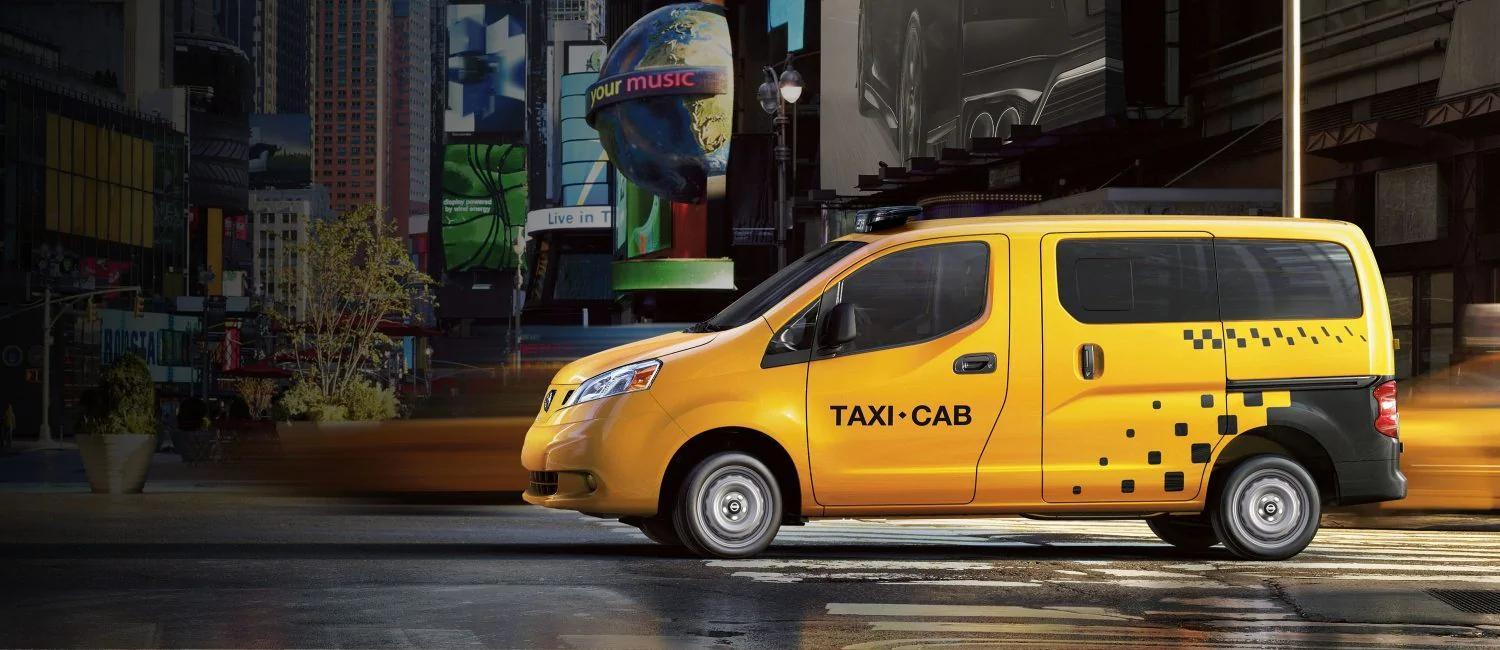taxi: (544, 194, 1500, 544)
